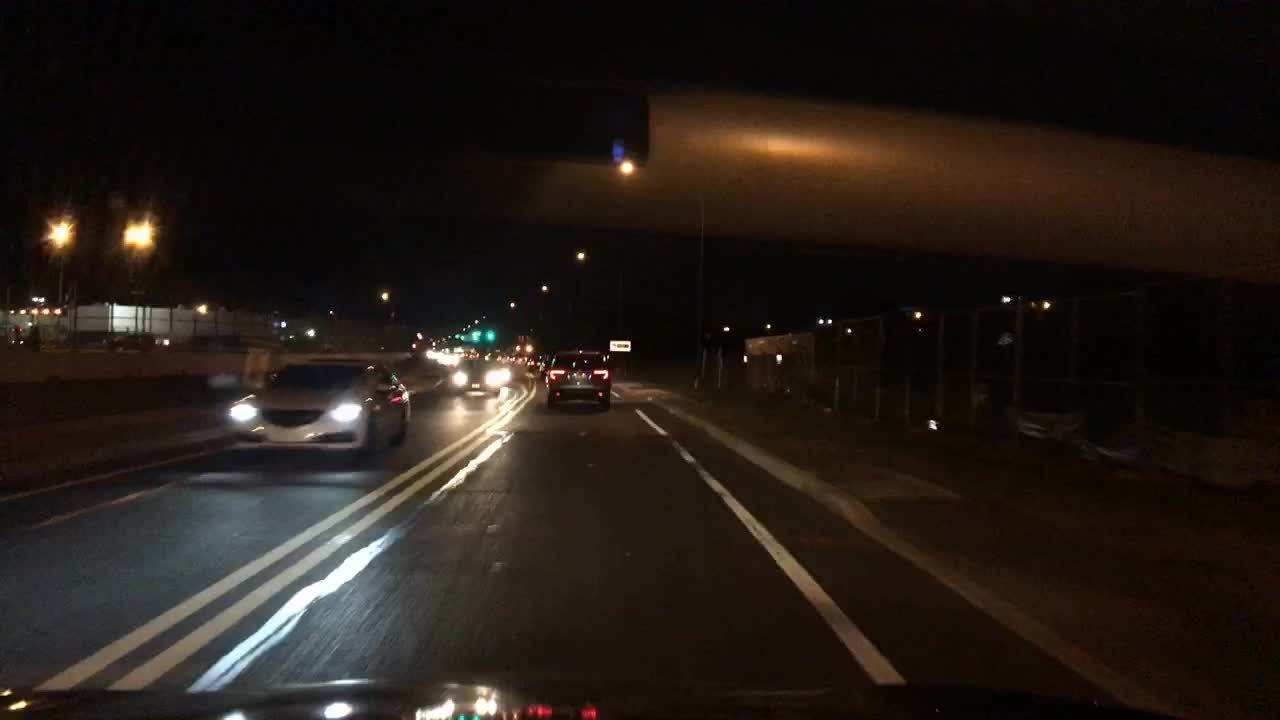car: (228, 358, 410, 464), (545, 347, 611, 410), (449, 354, 504, 396), (98, 331, 160, 349), (538, 347, 555, 380), (523, 353, 540, 373), (514, 354, 528, 368)
traffic light: (469, 327, 481, 342), (484, 324, 494, 341)
traffic sign: (609, 339, 631, 353)
